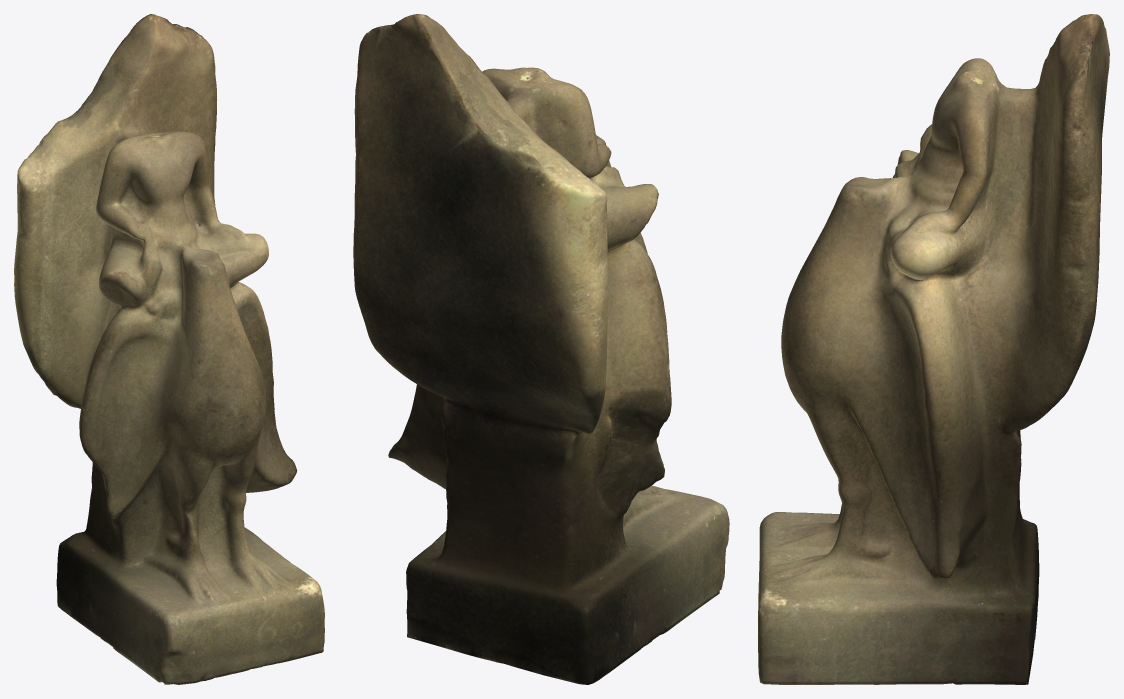
Rendered from 22_skanda_final.glb.
The picture shows the model from 3 angles, left to right: view 1: azimuth 30°, elevation 25°; view 2: azimuth 150°, elevation 25°; view 3: azimuth 270°, elevation 25°; orthographic projection. The views are drawn at different scales.
Size of the model in its own units: 0.3377 by 0.7651 by 0.3755.
1 material, 1 textured.
